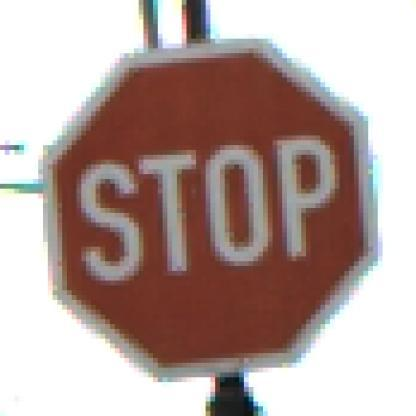Stop: (47, 51, 376, 367)
